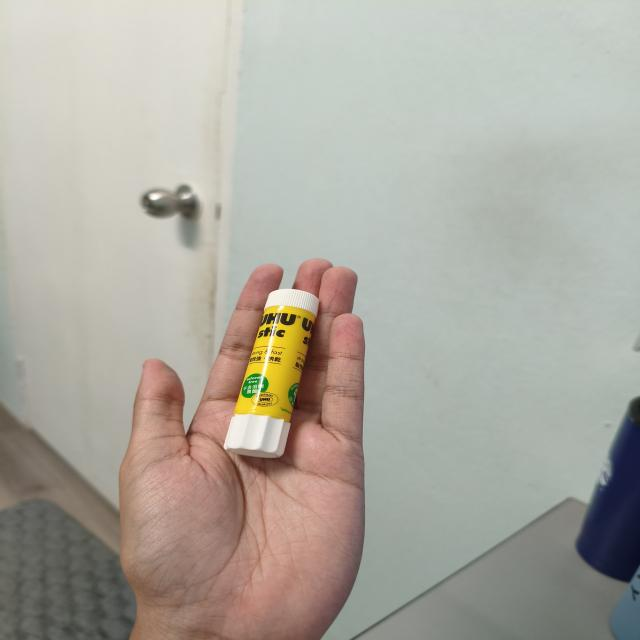glue: (224, 289, 319, 458)
